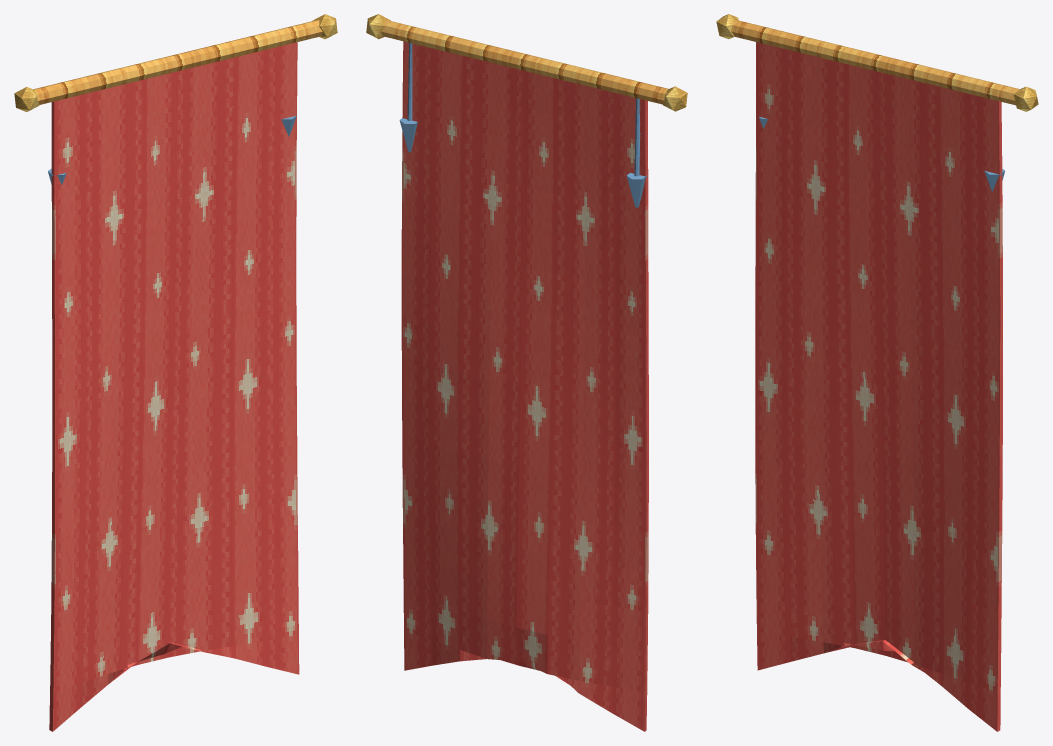
The model's file is tower_banner.glb.
3 renders of one model, left to right at view 1: azimuth 30°, elevation 25°; view 2: azimuth 150°, elevation 25°; view 3: azimuth 330°, elevation 25°, orthographic.
Parts seen in each view (by area): view 1: Banner; view 2: Banner; view 3: Banner.
Part boxes in pixels (box(x1,y1,x2,y2)): Banner: box(14, 14, 337, 731); Banner: box(366, 14, 687, 731); Banner: box(716, 14, 1038, 731).
Bounding box in the file's own units: 2.1 × 4.1 × 0.1883.
4 materials, 3 textured.
